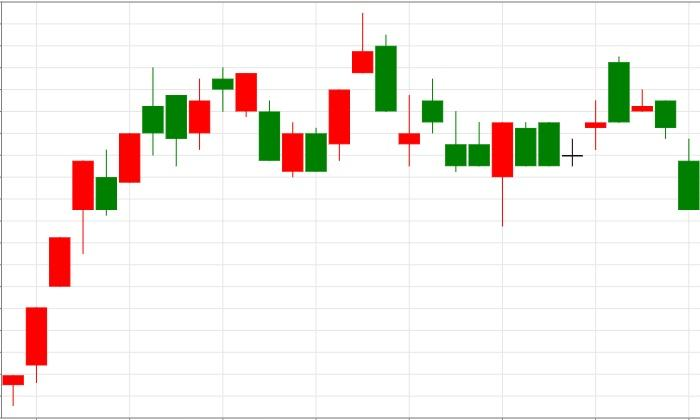bullish_engulfing_rise: (422, 77, 514, 227)
